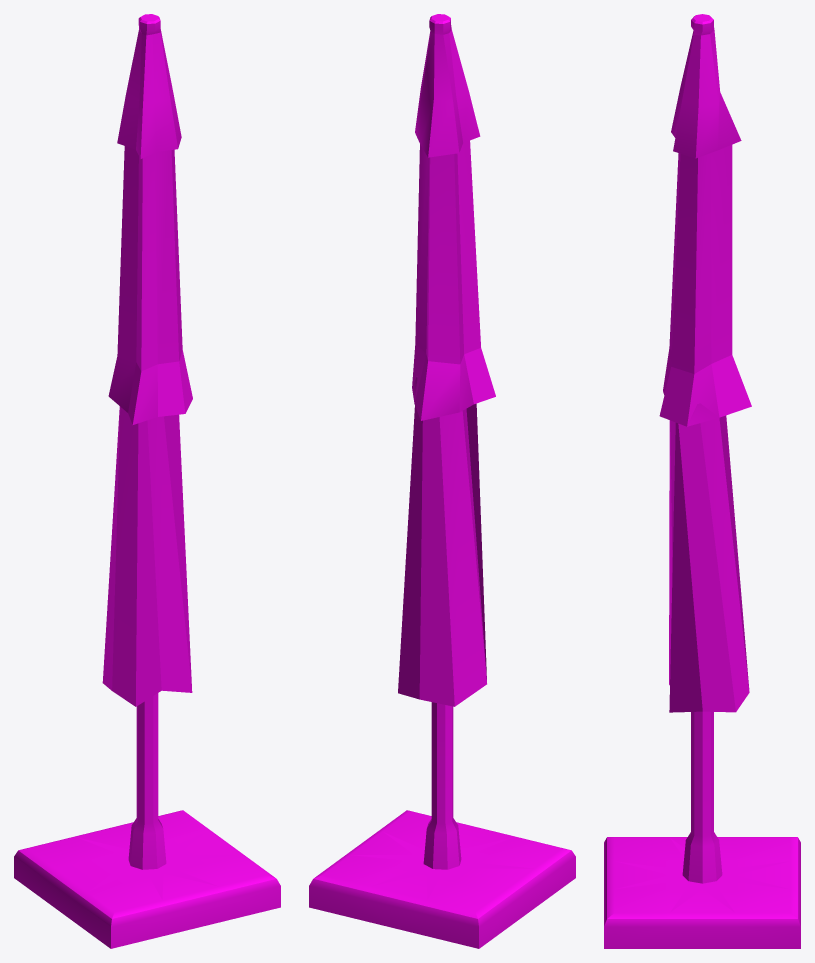
The model's file is parasol 3 var 2.fbx.
3 views of the same model, side by side, from view 1: azimuth 30°, elevation 25°; view 2: azimuth 150°, elevation 25°; view 3: azimuth 270°, elevation 25° (orthographic).
Parts seen in each view (by area): view 1: parasol_3_ver_2; view 2: parasol_3_ver_2; view 3: parasol_3_ver_2.
Boxes of the visible parts, x1,y1,x2,y2 form: parasol_3_ver_2: (14, 14, 280, 948); parasol_3_ver_2: (309, 14, 575, 948); parasol_3_ver_2: (604, 14, 800, 948).
Size of the model in its own units: 0.5183 by 2.55 by 0.5112.
